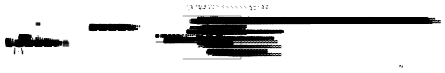room: (227, 52, 229, 54), (252, 16, 254, 18), (180, 29, 181, 31), (231, 52, 232, 53), (233, 52, 234, 53), (217, 51, 217, 54), (231, 53, 232, 53), (228, 53, 228, 54)
staircase: (0, 23, 7, 30), (14, 24, 15, 25)
wall: (227, 52, 229, 54), (238, 52, 239, 52)
